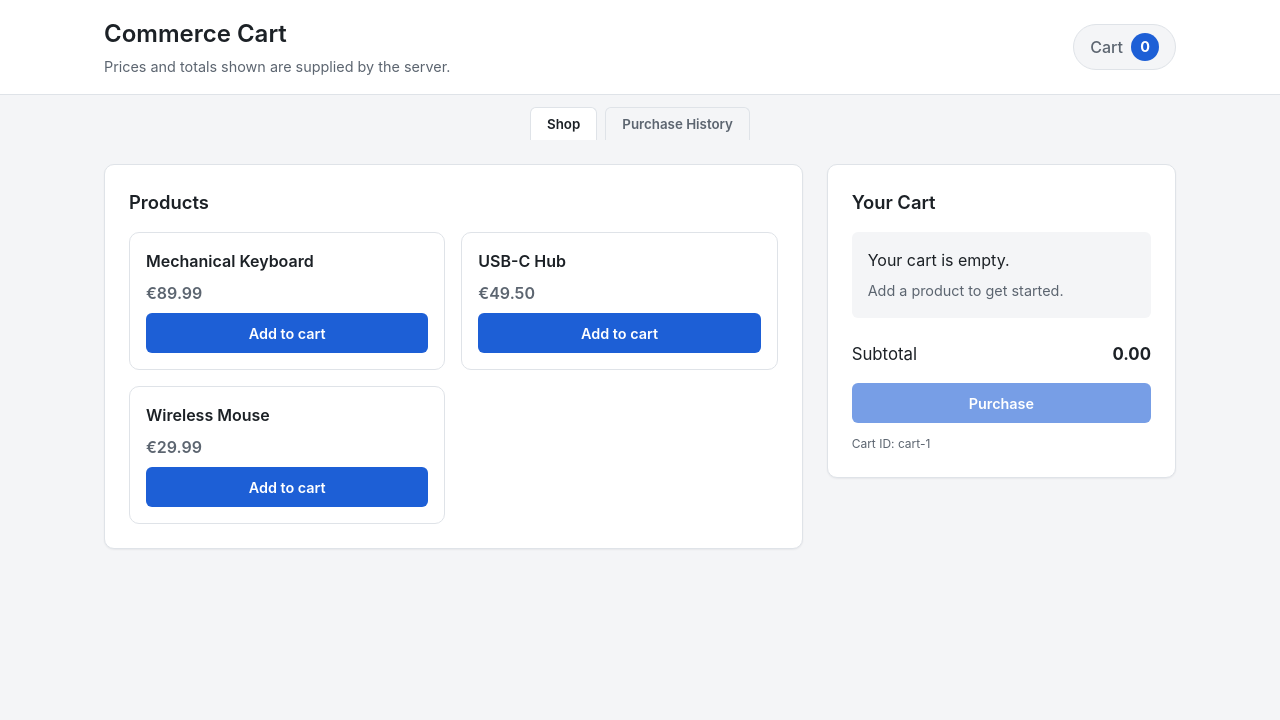
Test: Purchase and Purchase History › selects the Purchase History tab without a router
Click the tab "Purchase History" at x=678, y=123, box [605, 107, 750, 140]
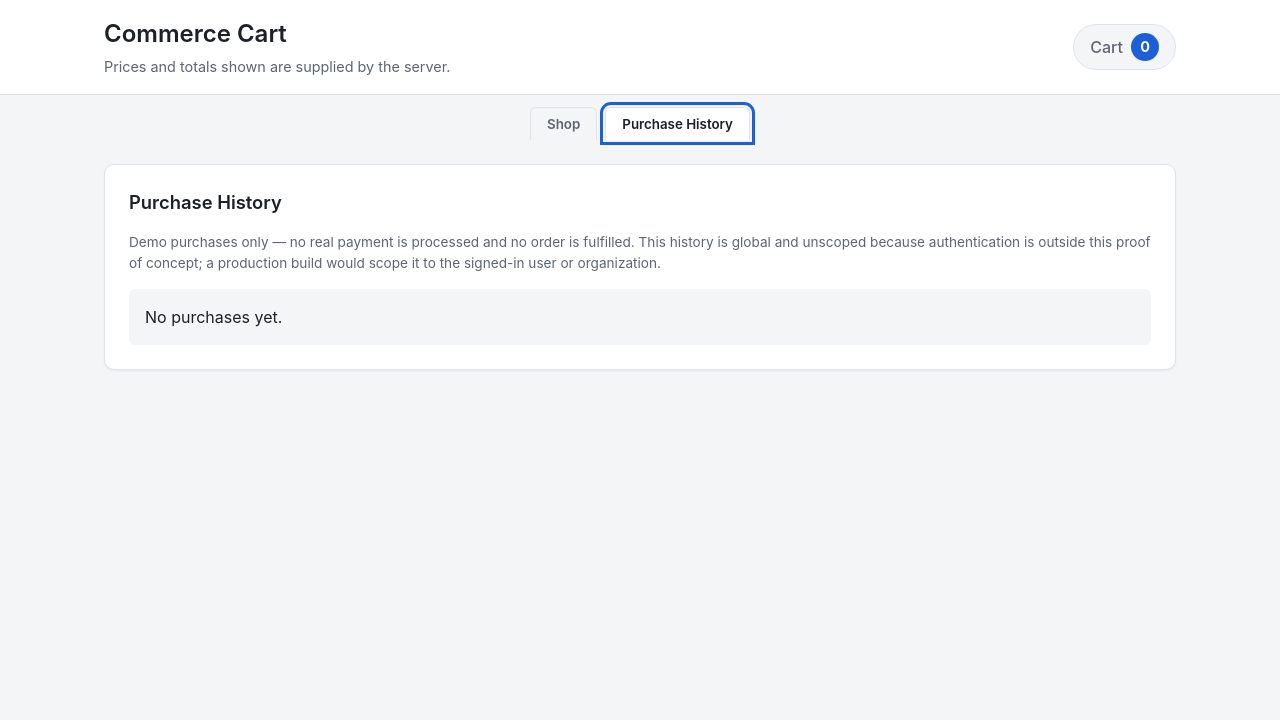
Result: the heading "Purchase History" is shown at [129, 191, 282, 213]
